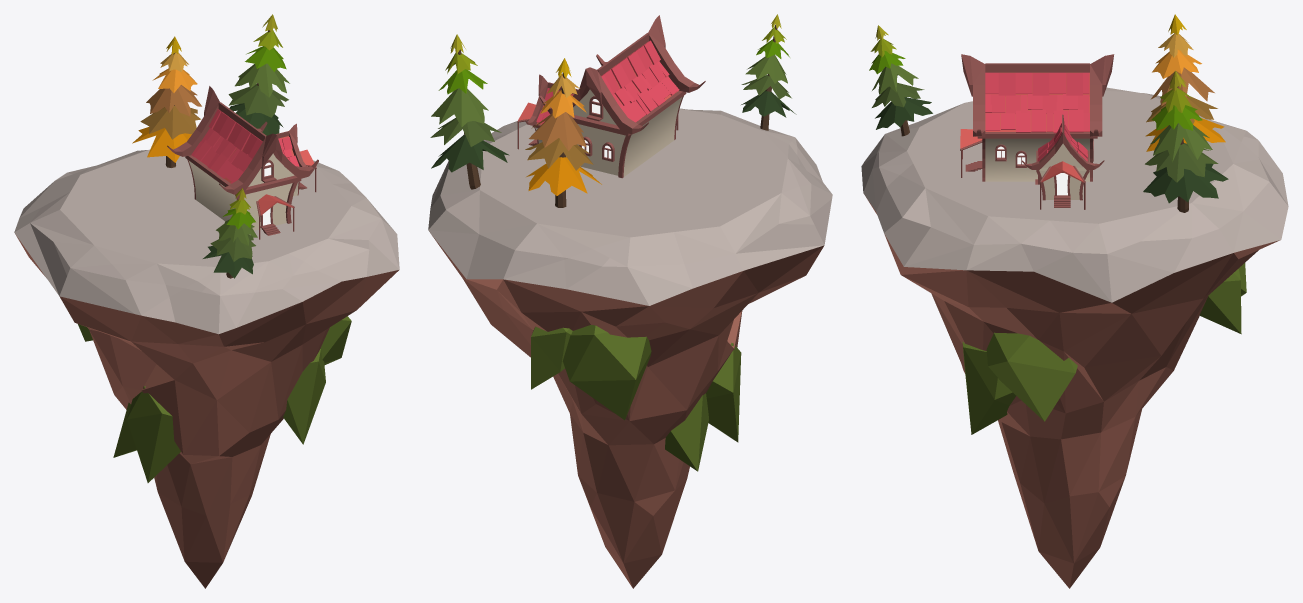
File: new_island.glb
The picture shows the model from 3 angles, left to right: view 1: azimuth 30°, elevation 25°; view 2: azimuth 150°, elevation 25°; view 3: azimuth 270°, elevation 25°; orthographic projection. The views are drawn at different scales.
Visible parts, largest first — view 1: island4, styHouse, PineTree2, PineTree3, PineTree5; view 2: island4, styHouse, PineTree2, PineTree3, PineTree5; view 3: island4, styHouse, PineTree3, PineTree2, PineTree5.
Boxes of the visible parts, bbox=[...] form: island4: bbox=[14, 149, 399, 588]; styHouse: bbox=[167, 86, 318, 239]; PineTree2: bbox=[132, 36, 201, 167]; PineTree3: bbox=[228, 14, 289, 135]; PineTree5: bbox=[203, 188, 257, 278]; island4: bbox=[428, 108, 832, 588]; styHouse: bbox=[517, 15, 705, 178]; PineTree2: bbox=[525, 58, 601, 207]; PineTree3: bbox=[430, 34, 509, 189]; PineTree5: bbox=[741, 14, 796, 130]; island4: bbox=[861, 87, 1288, 588]; styHouse: bbox=[960, 54, 1114, 209]; PineTree3: bbox=[1143, 71, 1228, 212]; PineTree2: bbox=[1145, 14, 1225, 151]; PineTree5: bbox=[869, 25, 932, 136].
Bounding box in the file's own units: 16.43 × 24.88 × 16.49.
